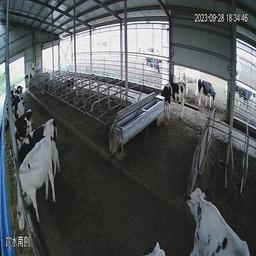cow: (175, 162, 239, 255), (11, 146, 60, 234), (156, 74, 185, 124), (9, 120, 55, 150), (7, 101, 34, 134), (197, 78, 217, 112), (7, 83, 24, 110)
